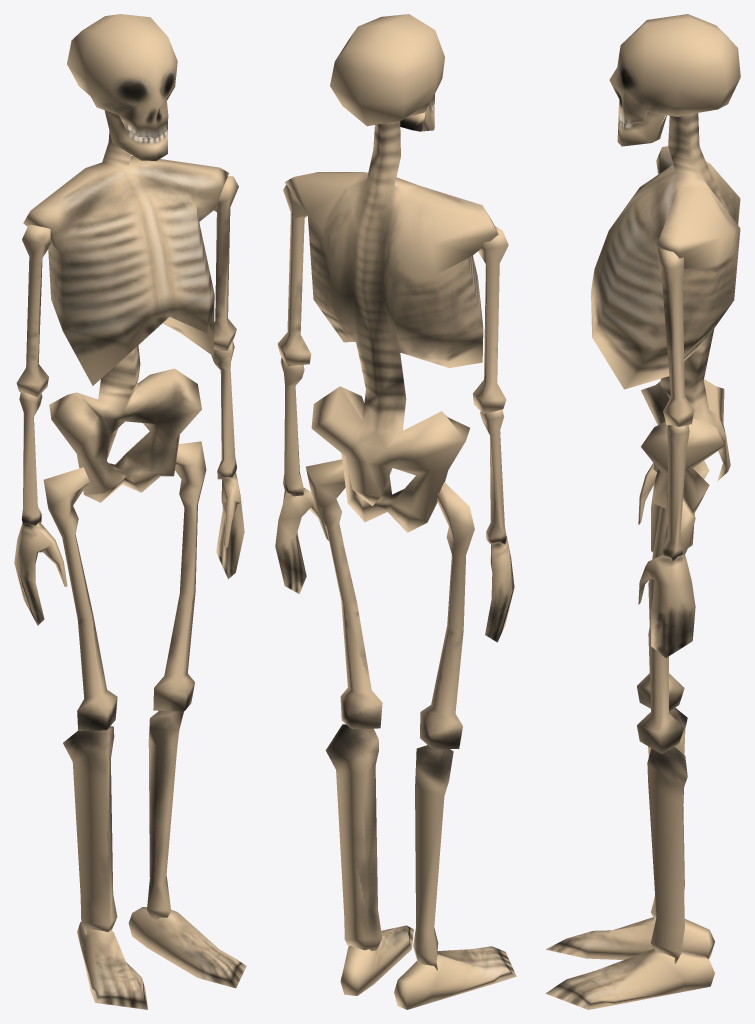
The model's file is HW_Skeleton.fbx.
The picture shows the model from 3 angles, left to right: view 1: azimuth 30°, elevation 25°; view 2: azimuth 150°, elevation 25°; view 3: azimuth 270°, elevation 25°; orthographic projection. The views are drawn at different scales.
Parts seen in each view (by area): view 1: HW_Skeleton; view 2: HW_Skeleton; view 3: HW_Skeleton.
Part boxes in pixels (left/top/right/bottom): HW_Skeleton: left=14, top=14, right=246, bottom=1009; HW_Skeleton: left=275, top=14, right=516, bottom=1009; HW_Skeleton: left=545, top=14, right=740, bottom=1009.
Size of the model in its own units: 0.1738 by 0.7038 by 0.1309.
Materials: 1 (1 with a texture image).
